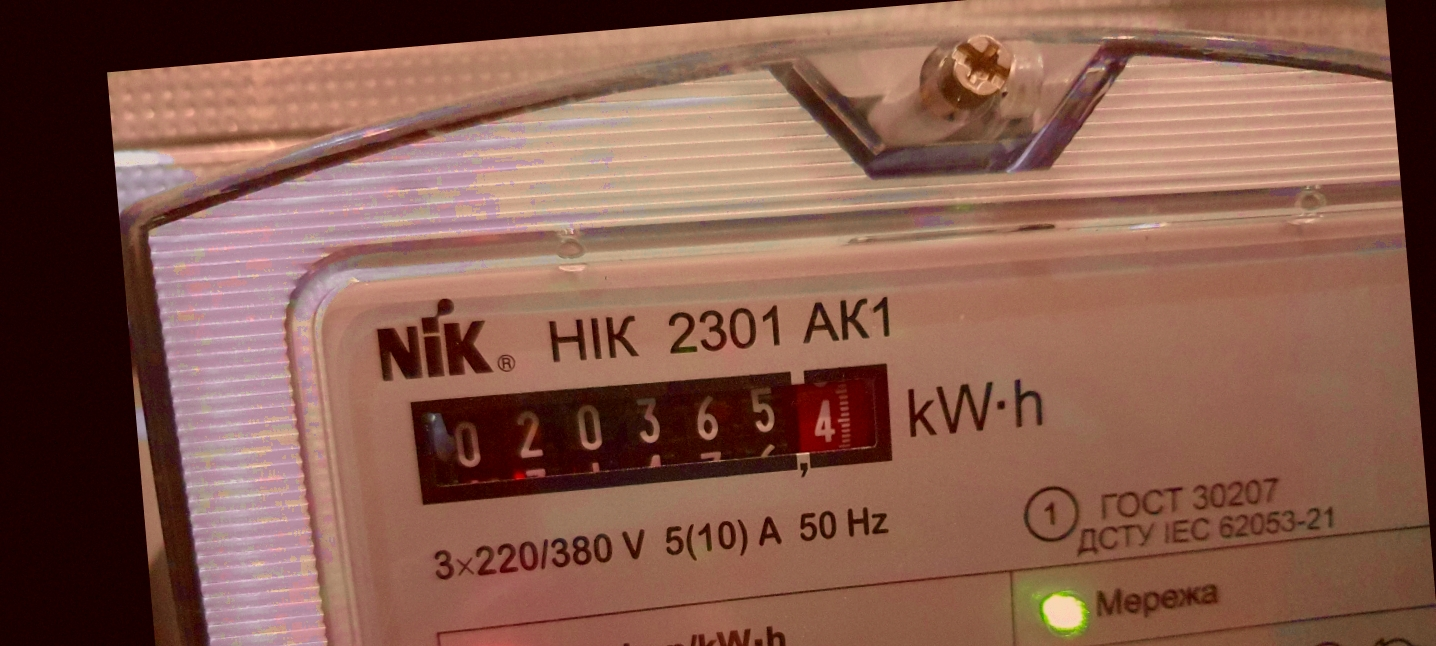0: (448, 415, 485, 472), (573, 402, 606, 453)
2: (511, 407, 546, 460)
3: (632, 395, 664, 446)
4: (809, 395, 836, 445)
5: (748, 385, 778, 434)
6: (690, 390, 720, 443)
screen: (395, 343, 912, 522)
